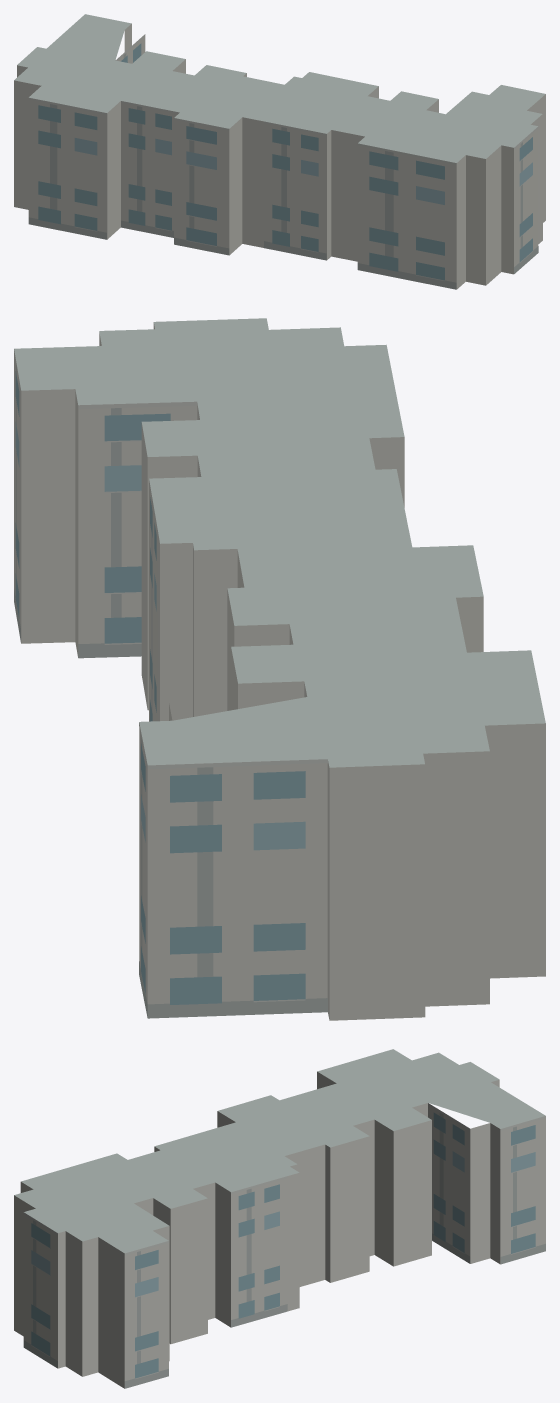
The model's file is residential-f99389d8-533f-4431-9ff5-ad85166df12b.glb.
3 views of the same model, one above another, from view 1: azimuth 30°, elevation 25°; view 2: azimuth 150°, elevation 25°; view 3: azimuth 270°, elevation 25° (orthographic). The views are drawn at different scales.
Visible parts, largest first — view 1: residential-f99389d8-533f-4431-9ff5-ad85166df12b.tmp; view 2: residential-f99389d8-533f-4431-9ff5-ad85166df12b.tmp; view 3: residential-f99389d8-533f-4431-9ff5-ad85166df12b.tmp.
Boxes of the visible parts, bbox=[...] form: residential-f99389d8-533f-4431-9ff5-ad85166df12b.tmp: bbox=[14, 14, 545, 289]; residential-f99389d8-533f-4431-9ff5-ad85166df12b.tmp: bbox=[14, 318, 545, 1020]; residential-f99389d8-533f-4431-9ff5-ad85166df12b.tmp: bbox=[14, 1049, 545, 1388].
Bounding box in the file's own units: 49.37 × 15.25 × 54.3.
